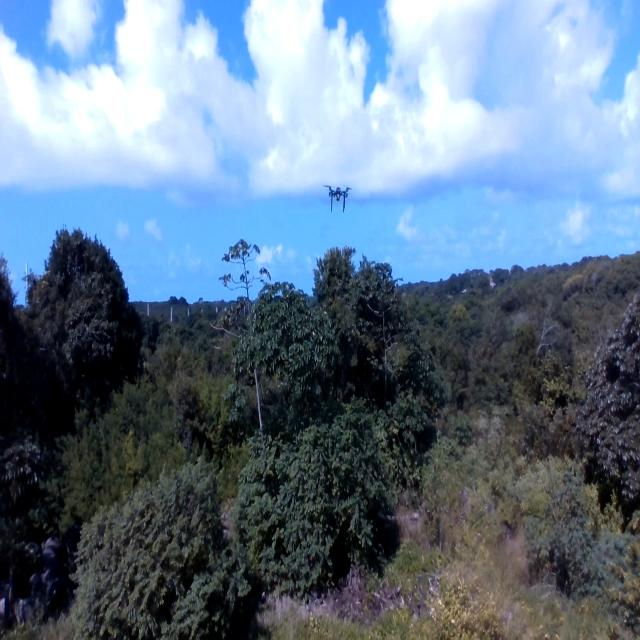-uav-: (319, 176, 358, 217)
